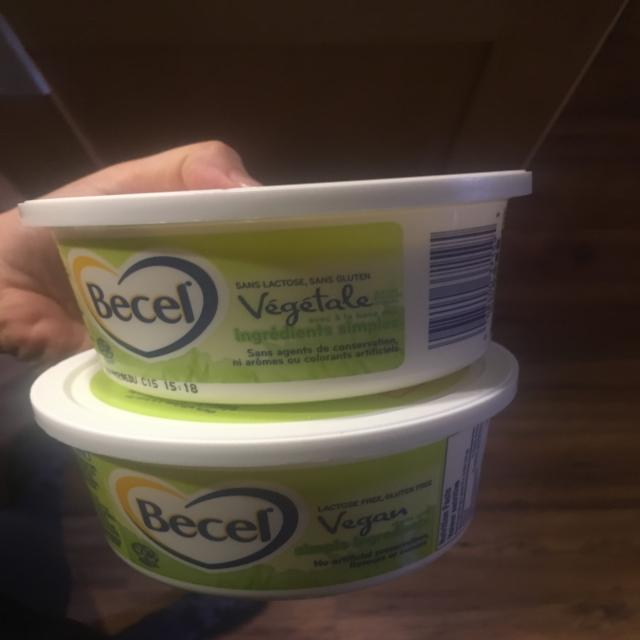plastic: (30, 352, 537, 598), (17, 170, 540, 397)
